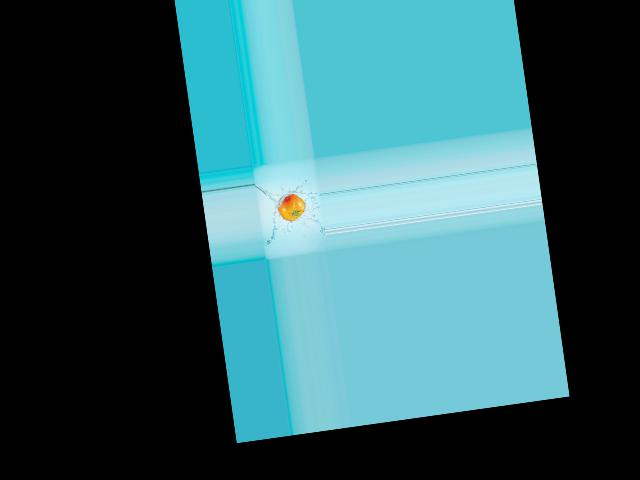tomato: (276, 192, 307, 222)
